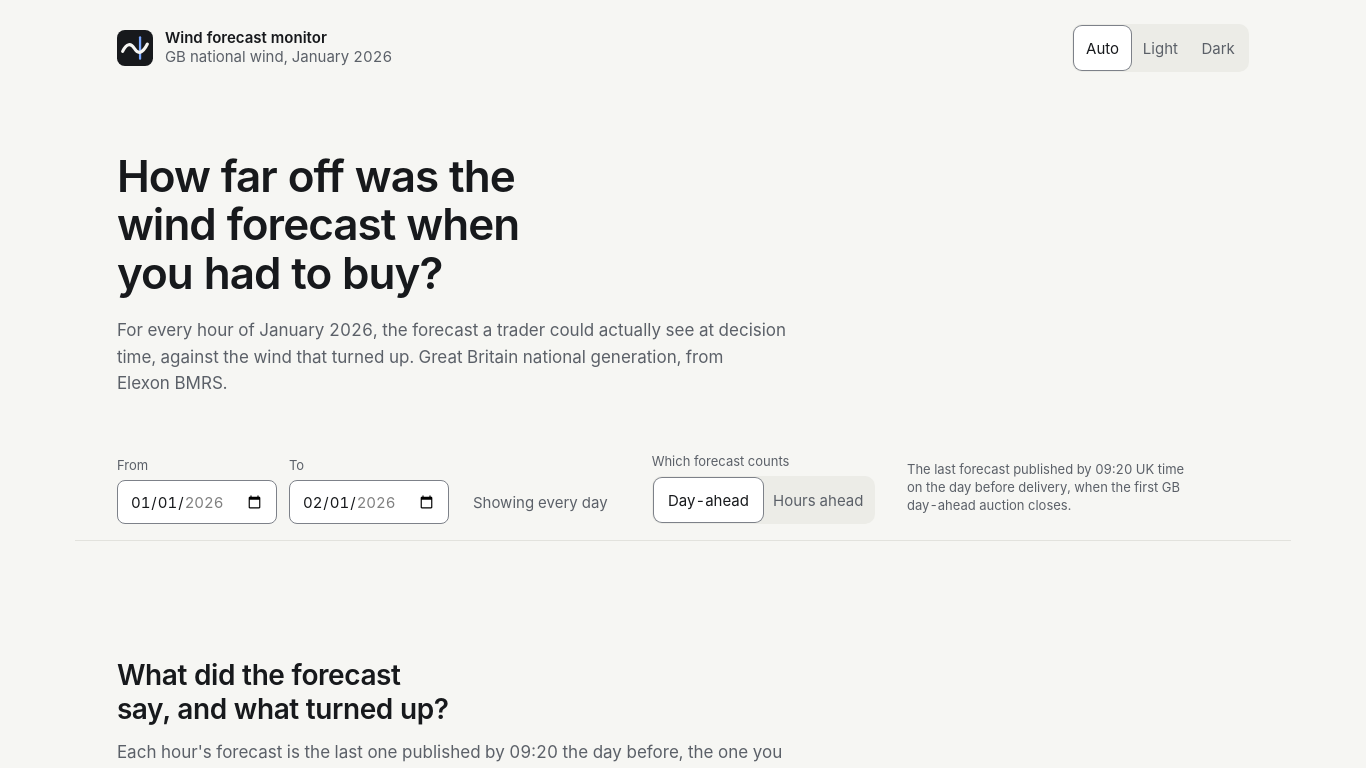
moving From past To drags To along, and Show every day resets both
Type "2026-01-10" into the date field labelled "To" at (369, 502), box [289,480,449,524]
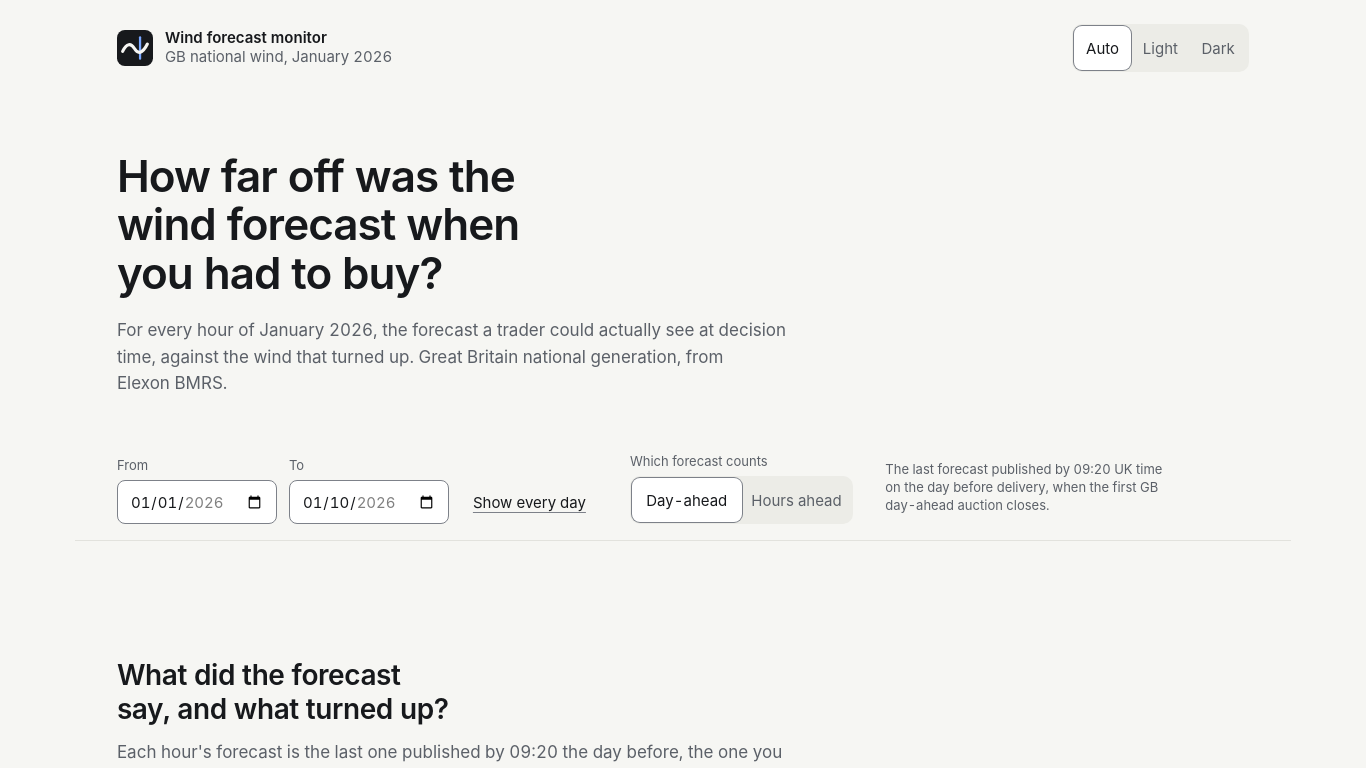
Type "2026-01-20" into the date field labelled "From" at (197, 502), box [117,480,277,524]
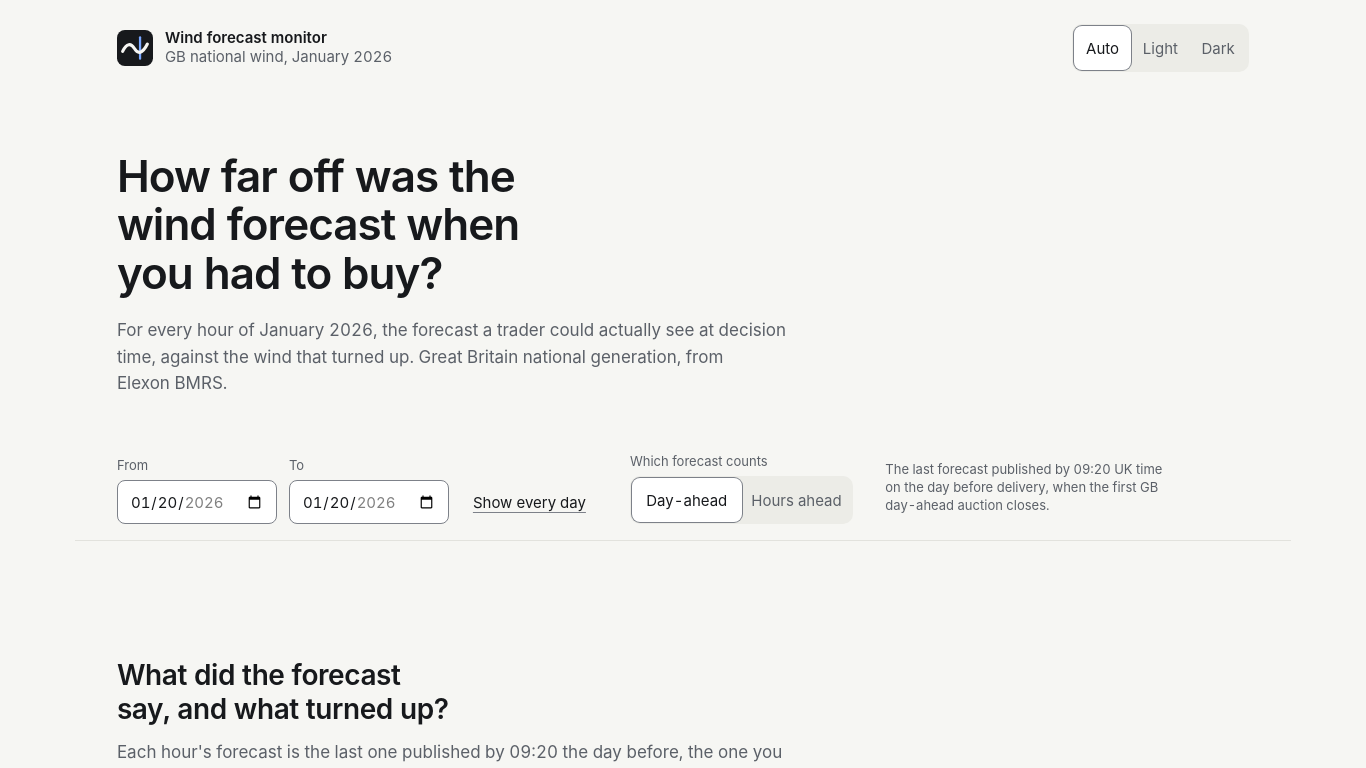
Check: the date field labelled "To" holds "2026-01-20", box [289,480,449,524]
Click the button "Show every day" at (529, 502), box [461,480,598,524]
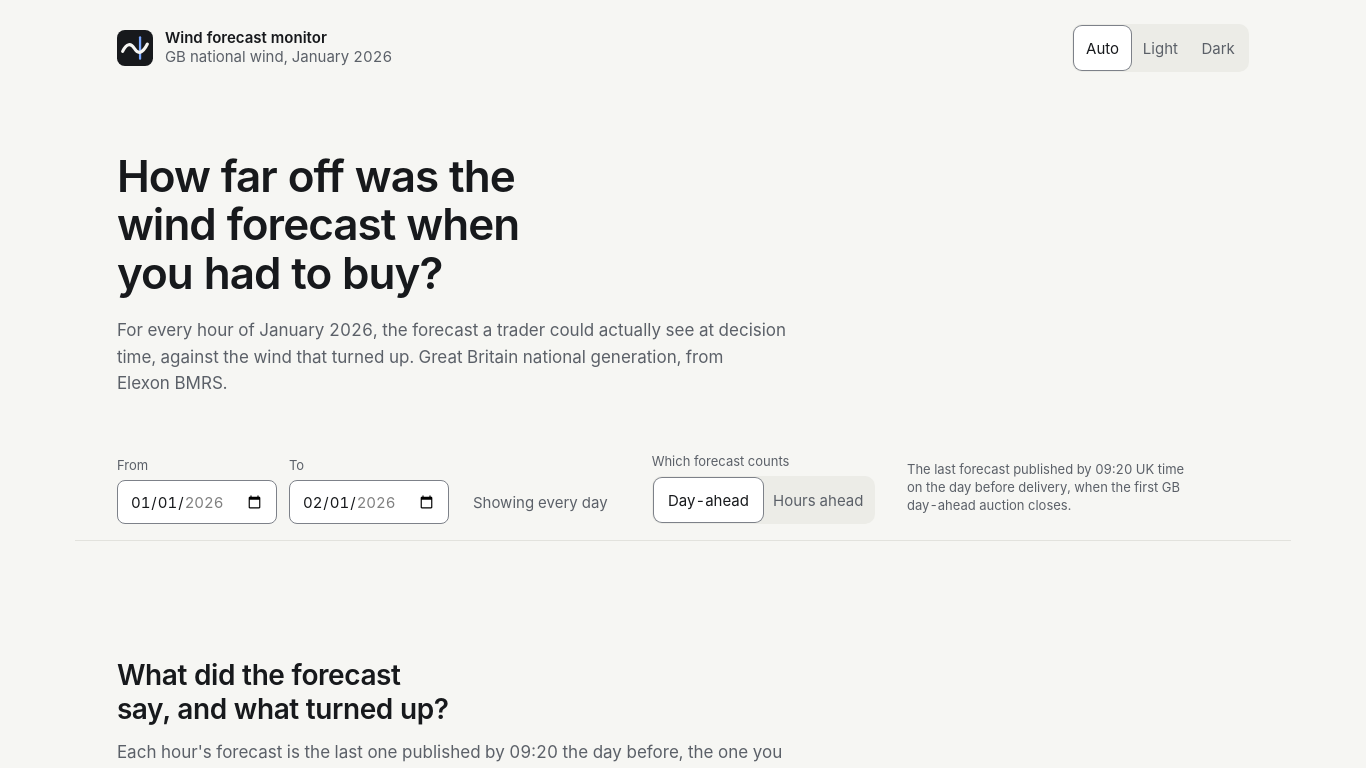
Check: the date field labelled "From" holds "2026-01-01", box [117,480,277,524]
Check: the date field labelled "To" holds "2026-02-01", box [289,480,449,524]
Check: the button "Showing every day" is disabled, box [461,480,620,524]
